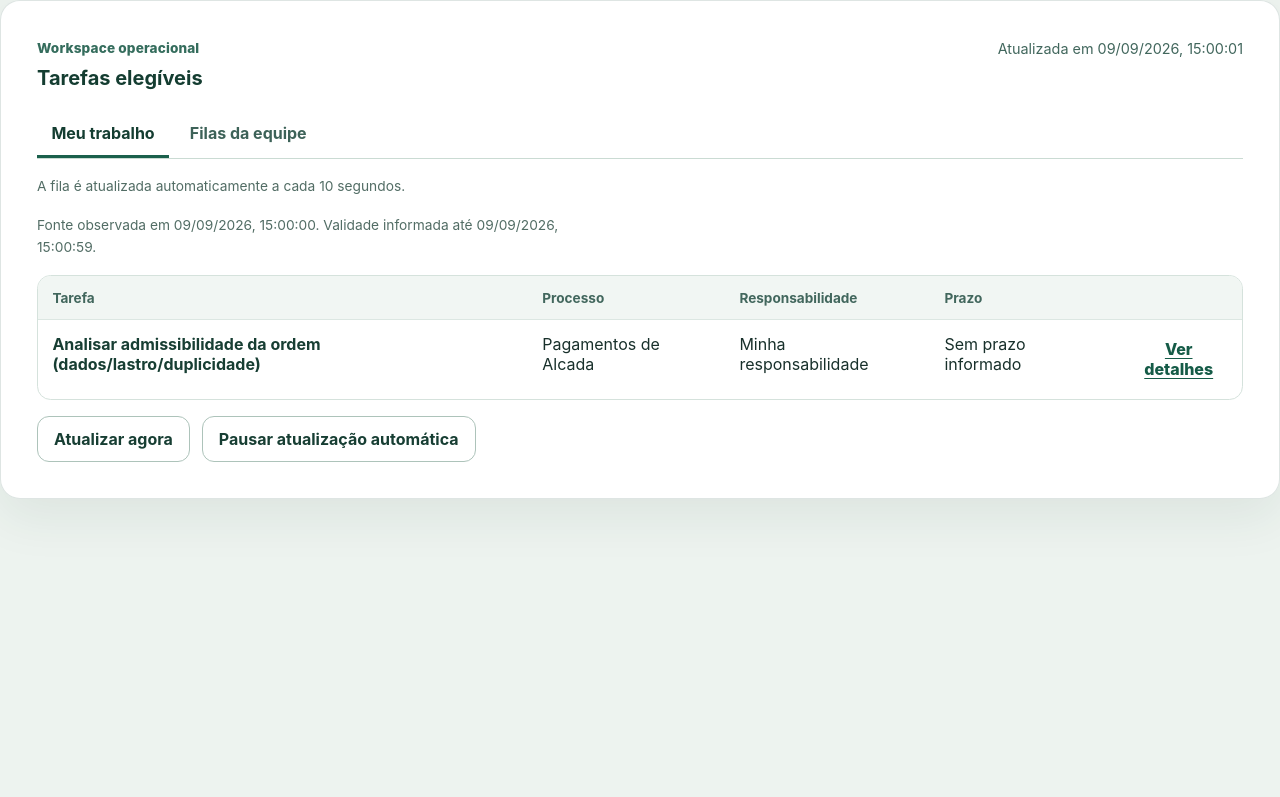
it: a new selected-task revision fences pending old detail and can be explicitly opened again
Click the button named "Ver detalhes: Analisar admissibilidade da ordem (dados/lastro/duplicidade)" at (1179, 360), box [1130,334,1228,385]
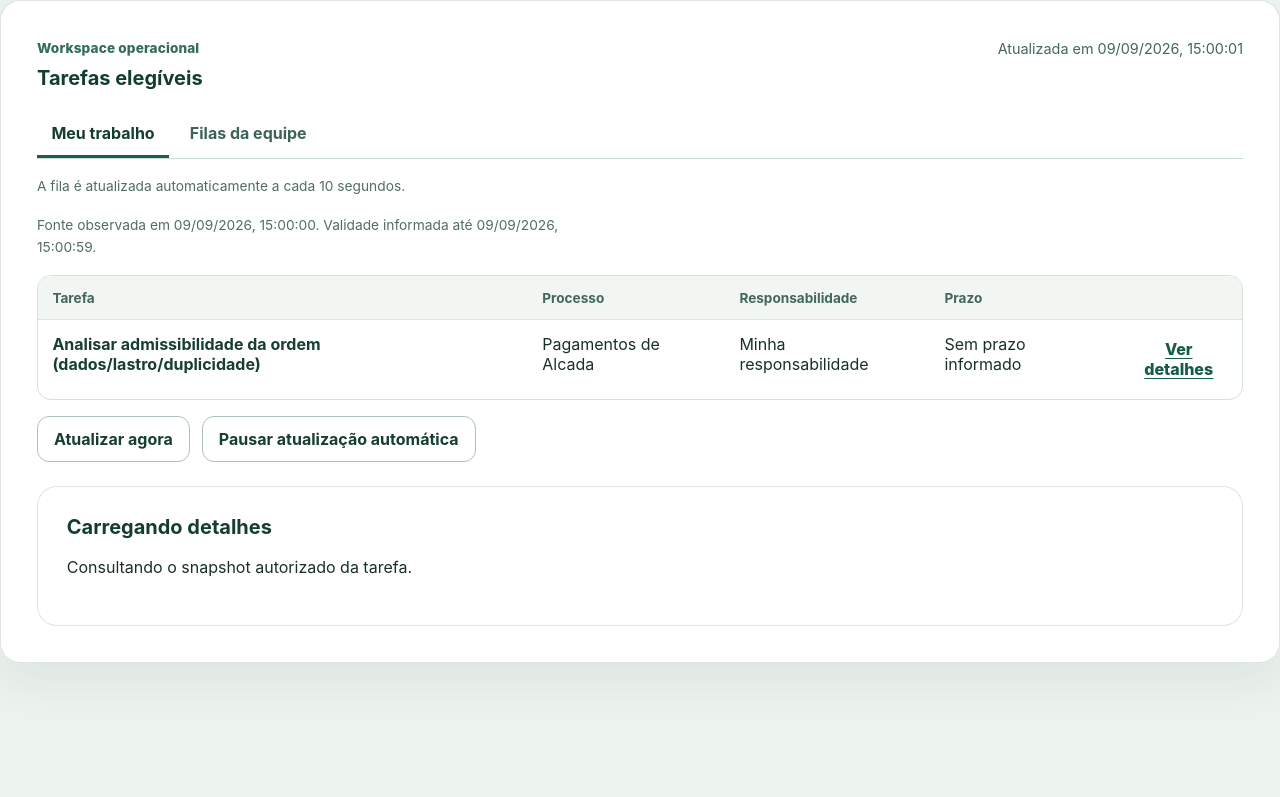
Click the button "Atualizar agora" at (113, 439), box [37,416,190,462]
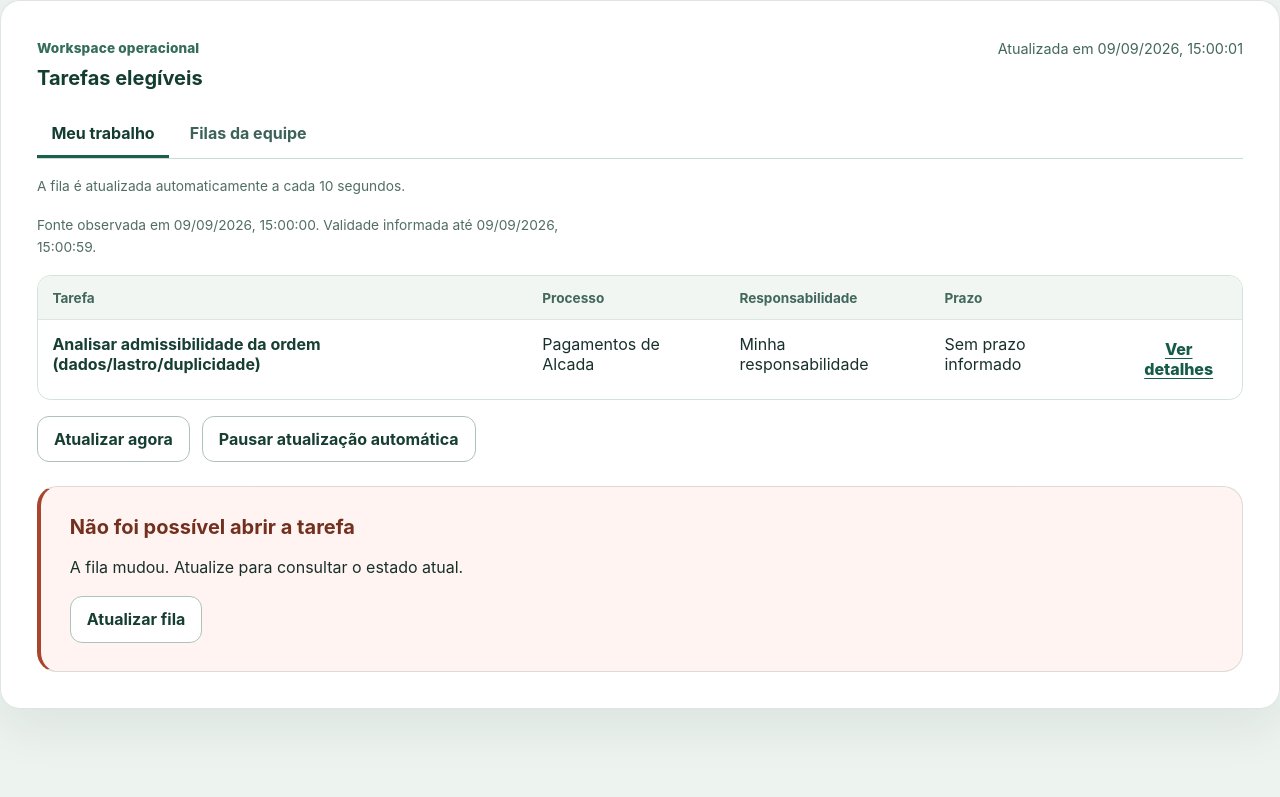
Click the button named "Ver detalhes: Analisar admissibilidade da ordem (dados/lastro/duplicidade)" at (1179, 360), box [1130,334,1228,385]
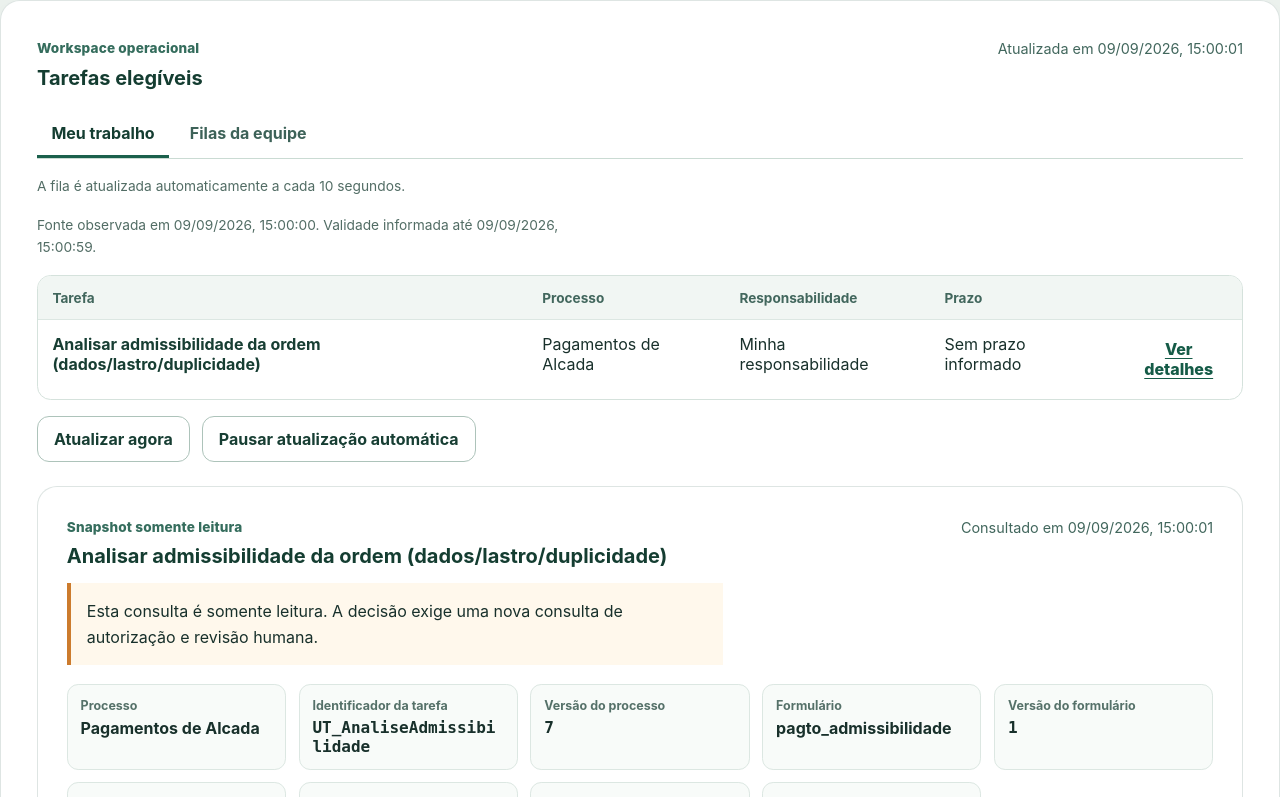
Result: the heading "Analisar admissibilidade da ordem (dados/lastro/duplicidade)" is shown at [67,546,667,568]
